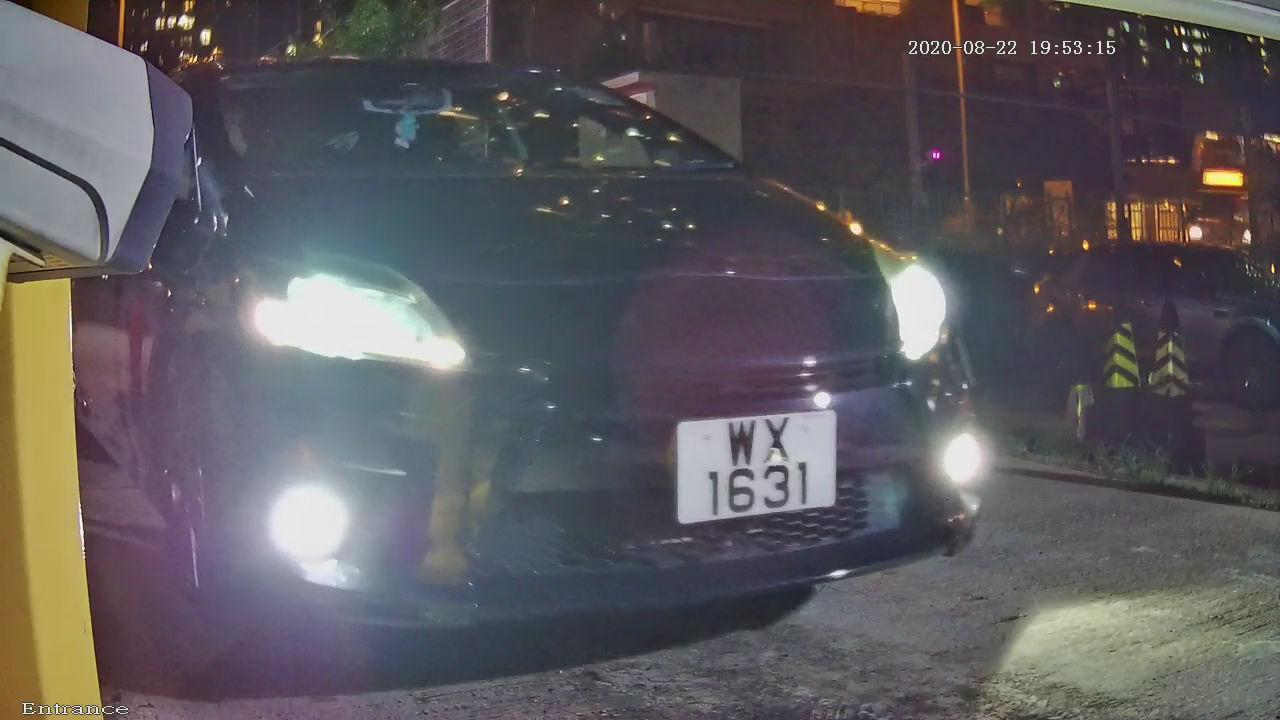Car: (58, 13, 1063, 676)
License Plate: (652, 402, 852, 537)
